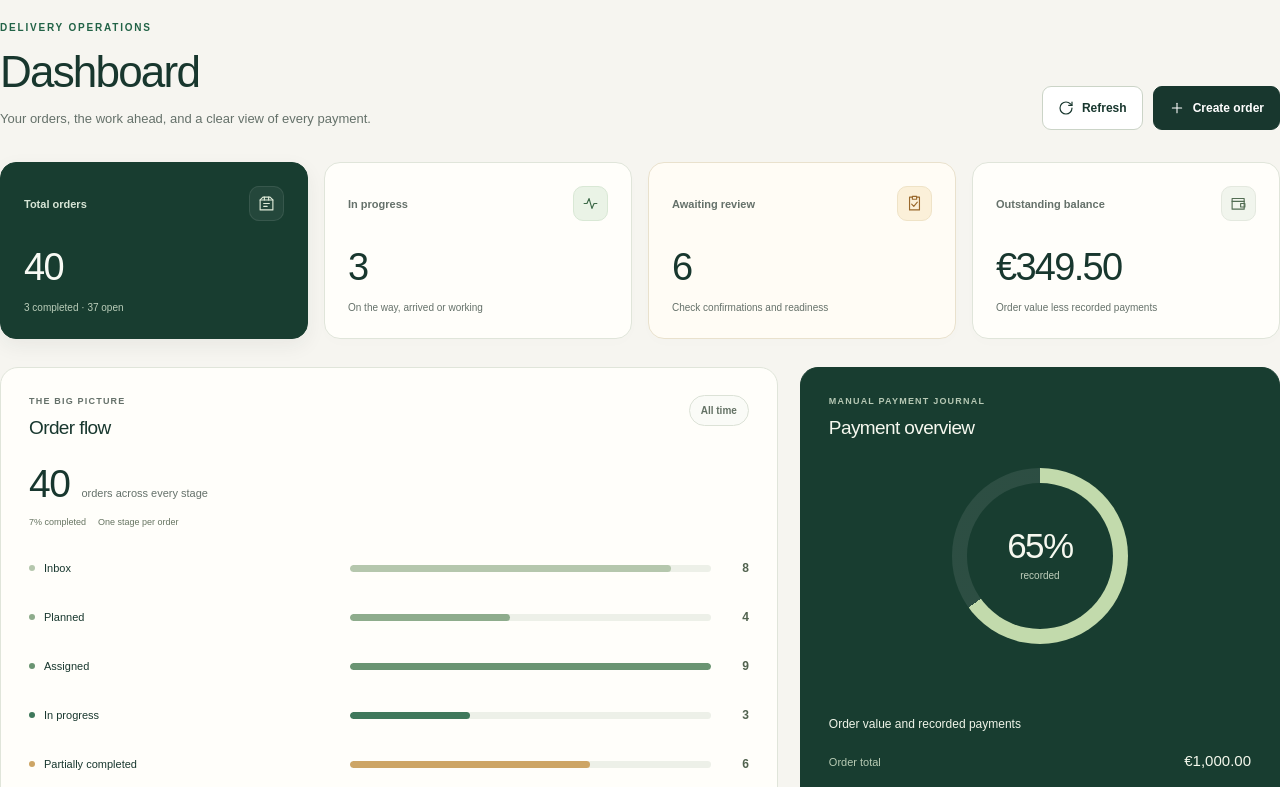
Scenario: dashboard charts from canonical all-order aggregates › preserves the last aggregate on a temporary refresh failure and lets the user retry
What coordinates should you click on to do the following:
click the button with aria-label "Refresh dashboard"
I would click on:
 (1092, 108)
Its box is [1042,86,1143,130].
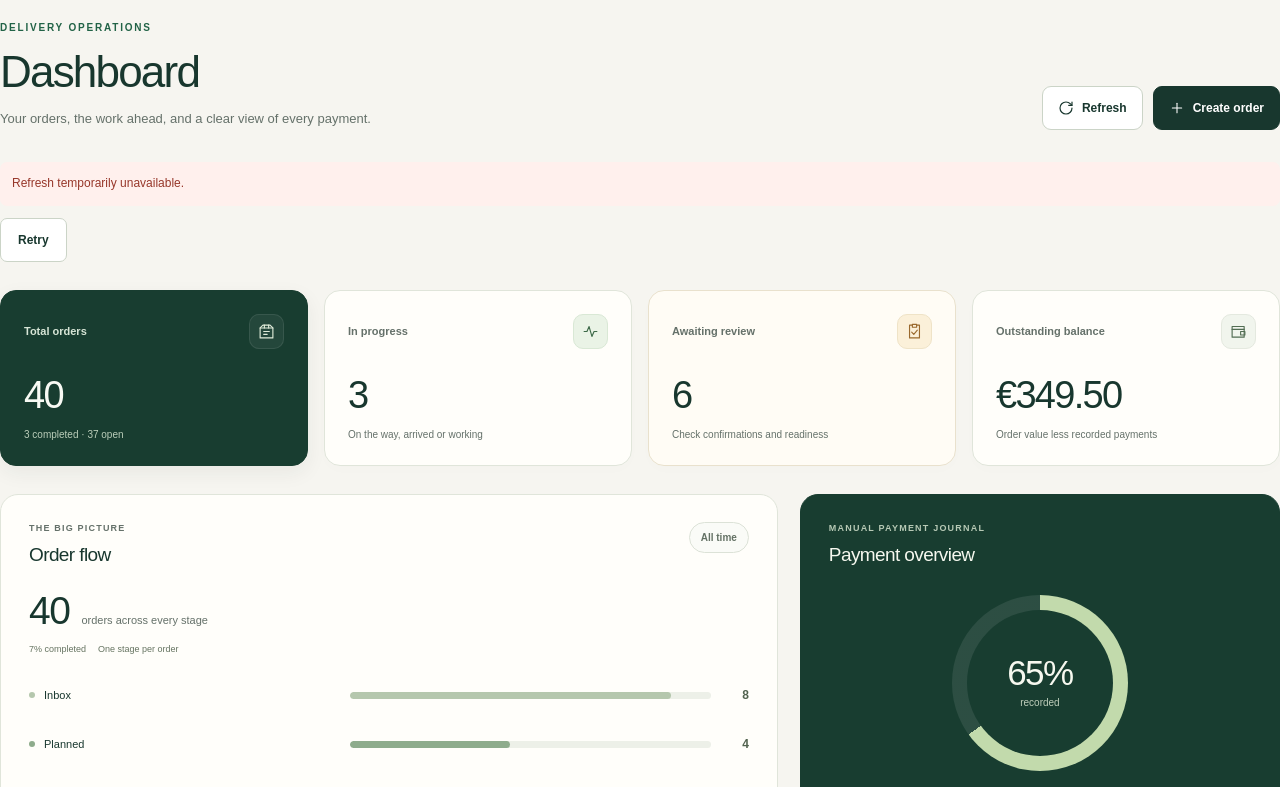
expect the message shows "Refresh temporarily unavailable": met, box [12,176,184,190]
What coordinates should you click on to do the following:
click the button "Retry"
I would click on:
 (33, 240)
Its box is [0,218,67,262].
(page scrolled)
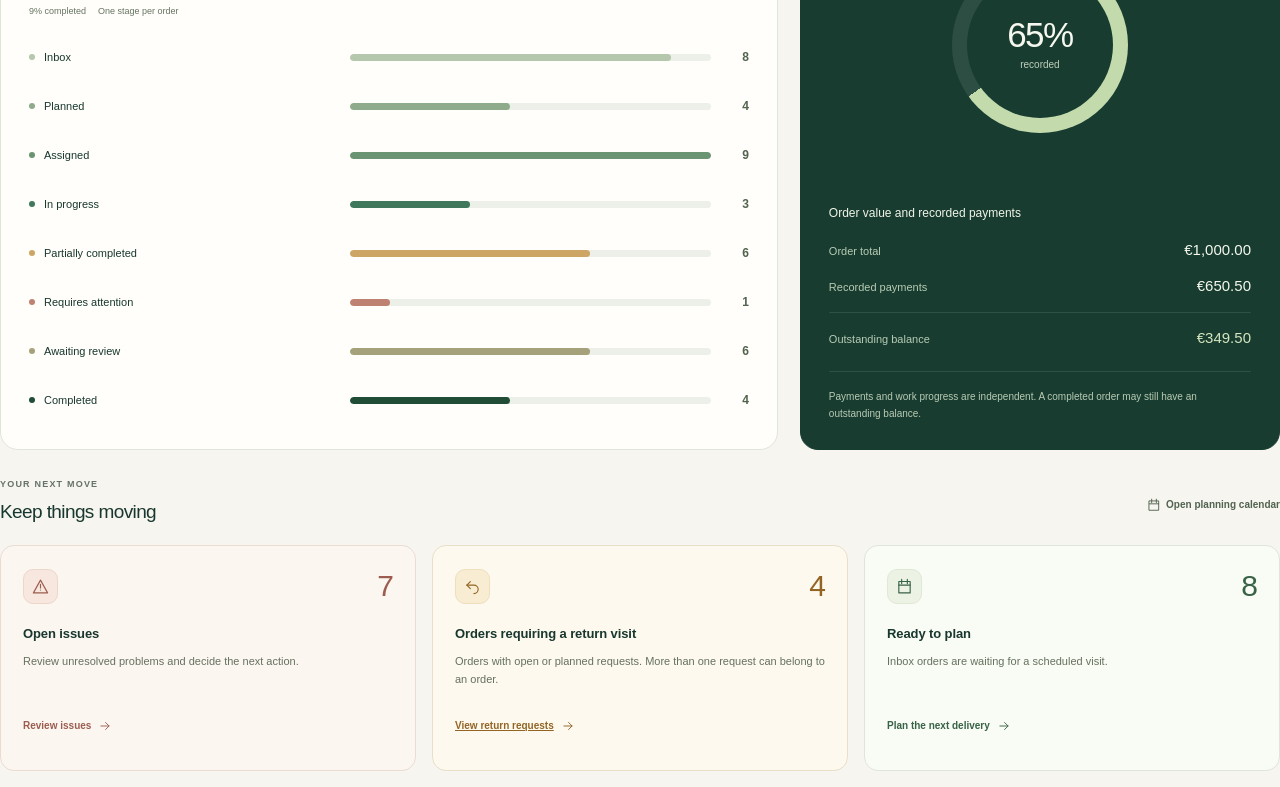
expect the link "Completed 4" is shown: met, box [29,393,749,407]
expect the message "Refresh temporarily unavailable." is gone: met
